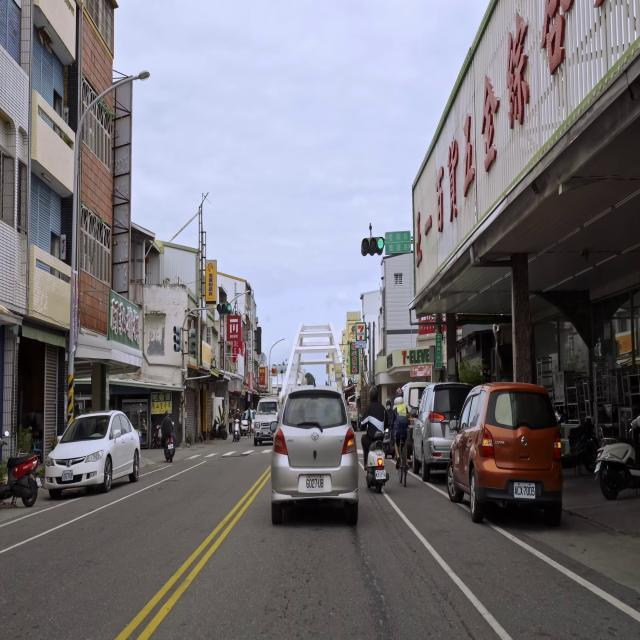green light: (361, 237, 385, 254), (216, 303, 232, 312)
